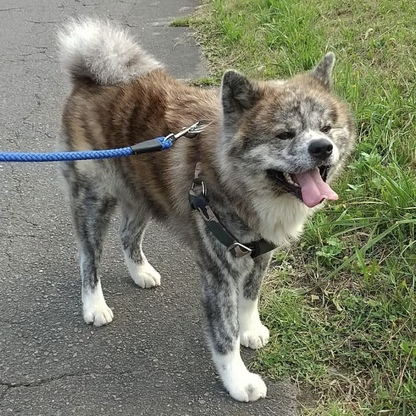akita: (46, 13, 360, 409)
